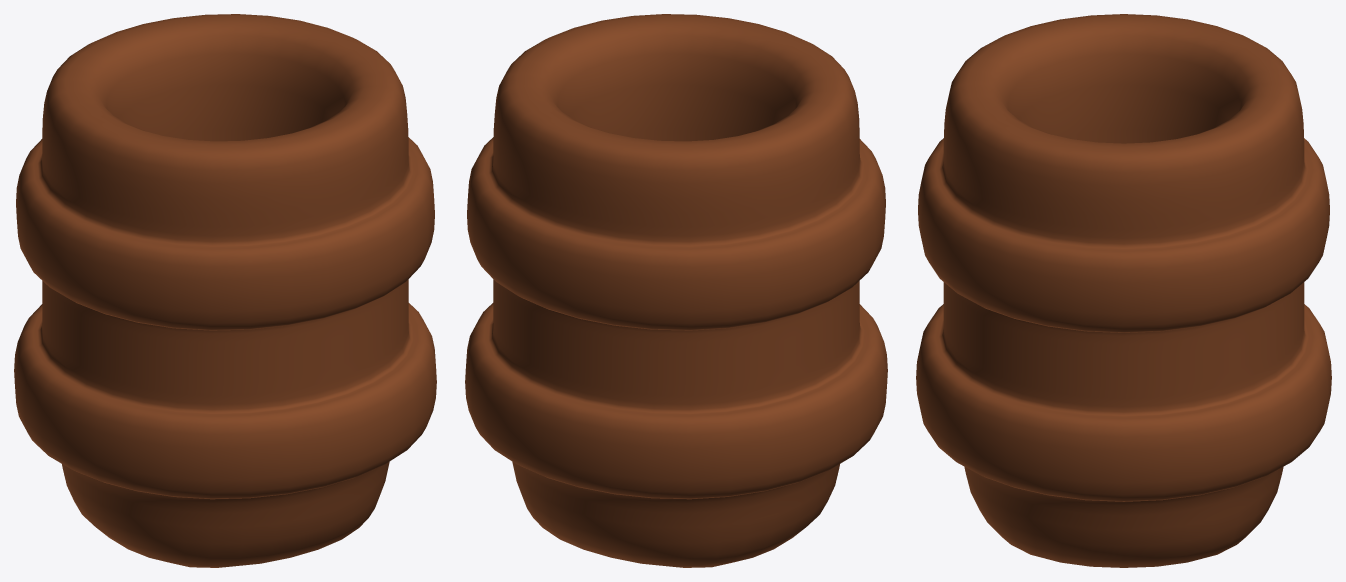
The model's file is balde.fbx.
3 views of the same model, side by side, from view 1: azimuth 30°, elevation 25°; view 2: azimuth 150°, elevation 25°; view 3: azimuth 270°, elevation 25° (orthographic).
Parts seen in each view (by area): view 1: Cube; view 2: Cube; view 3: Cube.
Part boxes in pixels (left/top/right/bottom): Cube: left=14, top=14, right=436, bottom=567; Cube: left=465, top=14, right=887, bottom=567; Cube: left=916, top=14, right=1331, bottom=567.
Size of the model in its own units: 259 by 298 by 253.
